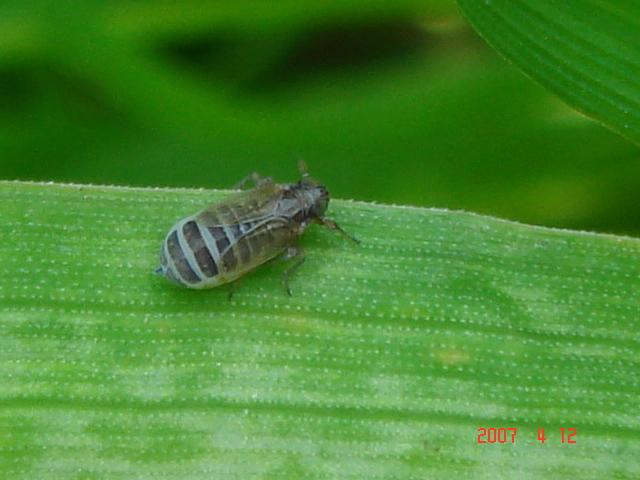Delphacidae: (155, 159, 362, 307)
